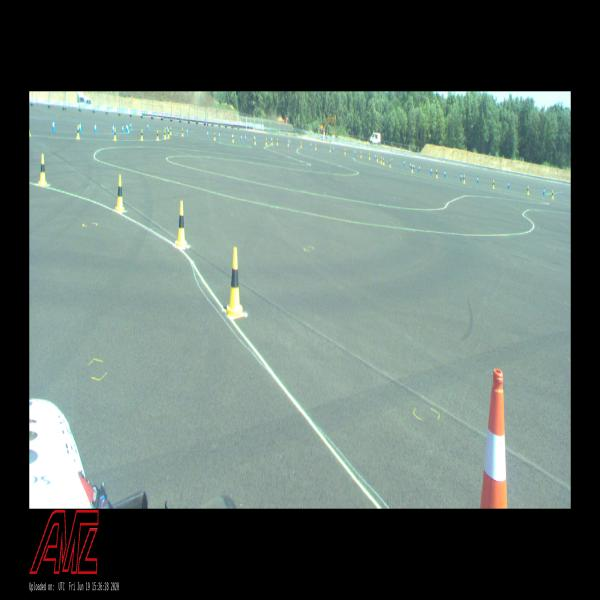blue_cone: (52, 118, 55, 132), (94, 122, 97, 134), (476, 175, 479, 184), (79, 120, 81, 132), (507, 180, 510, 188), (112, 123, 114, 134), (122, 124, 124, 134), (127, 123, 129, 133), (232, 132, 234, 141), (543, 187, 545, 195), (125, 123, 127, 131), (147, 122, 149, 130), (130, 121, 132, 129), (444, 170, 446, 178), (418, 164, 420, 172), (413, 163, 415, 170), (206, 130, 208, 137), (240, 134, 242, 141), (403, 160, 405, 166), (186, 128, 188, 134), (332, 146, 334, 152), (310, 143, 312, 148), (354, 150, 356, 155), (219, 132, 220, 140), (431, 167, 432, 175), (245, 134, 246, 141), (461, 173, 462, 180), (410, 162, 411, 169), (167, 125, 168, 132), (254, 134, 255, 141), (375, 154, 376, 160), (271, 137, 272, 142), (392, 157, 392, 163), (290, 140, 290, 144)
orange_cone: (480, 368, 508, 508)
yellow_cone: (227, 248, 242, 316), (175, 201, 188, 249), (115, 174, 124, 213), (38, 154, 47, 186), (76, 125, 80, 138), (114, 128, 117, 139), (156, 130, 159, 140), (551, 190, 554, 199), (492, 180, 495, 188), (181, 128, 184, 136), (141, 129, 143, 140), (527, 186, 529, 195), (164, 127, 166, 136), (232, 134, 234, 143), (164, 130, 166, 139), (411, 164, 413, 173), (436, 170, 438, 178), (265, 138, 267, 146), (463, 175, 465, 183), (254, 136, 256, 144), (388, 160, 390, 167), (382, 158, 384, 165), (271, 138, 273, 145), (360, 151, 362, 158), (344, 148, 346, 154), (300, 142, 302, 148), (380, 157, 382, 163), (329, 146, 331, 152), (29, 124, 30, 136), (168, 129, 169, 138), (214, 132, 215, 140), (170, 127, 171, 135), (277, 138, 278, 145), (369, 153, 370, 160), (377, 155, 378, 162), (315, 144, 316, 150), (288, 140, 289, 146)
